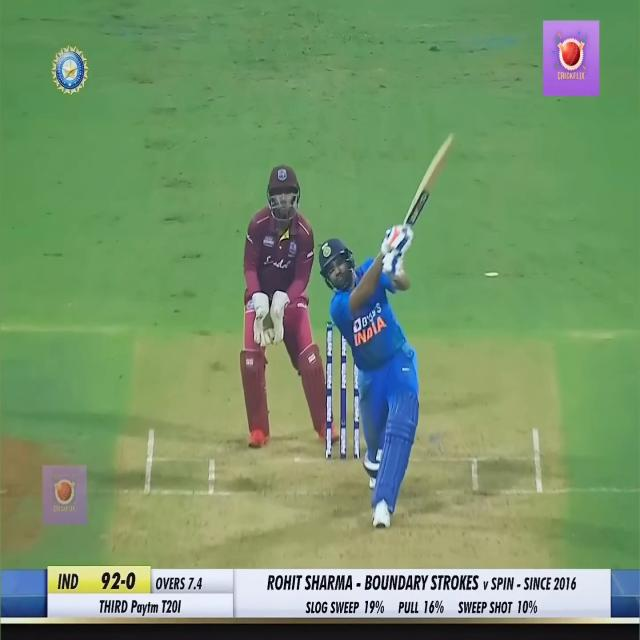fully_visible: (130, 595, 159, 618)
